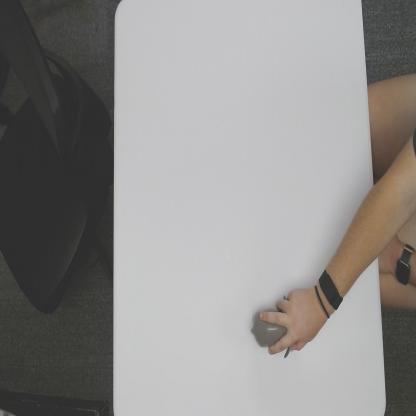Arm: (342, 186, 378, 296)
Elephant: (251, 294, 294, 364)
Hand: (259, 286, 322, 358)
